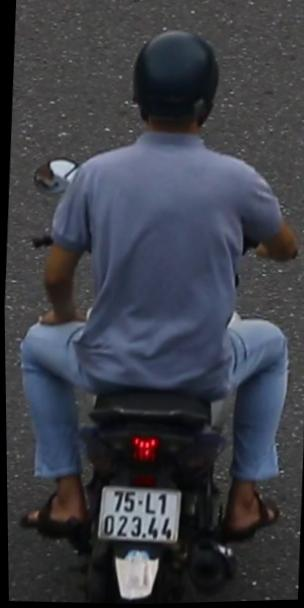LP: (89, 473, 184, 553)
helmet: (121, 22, 235, 156)
